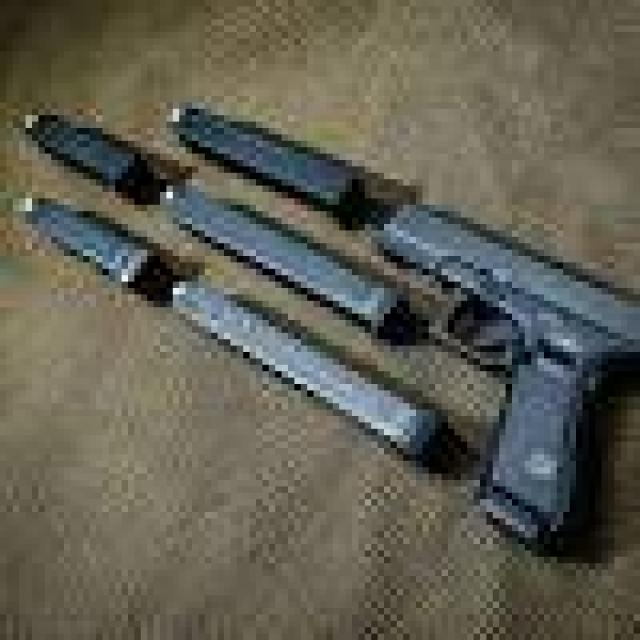Gun: (361, 191, 640, 554)
